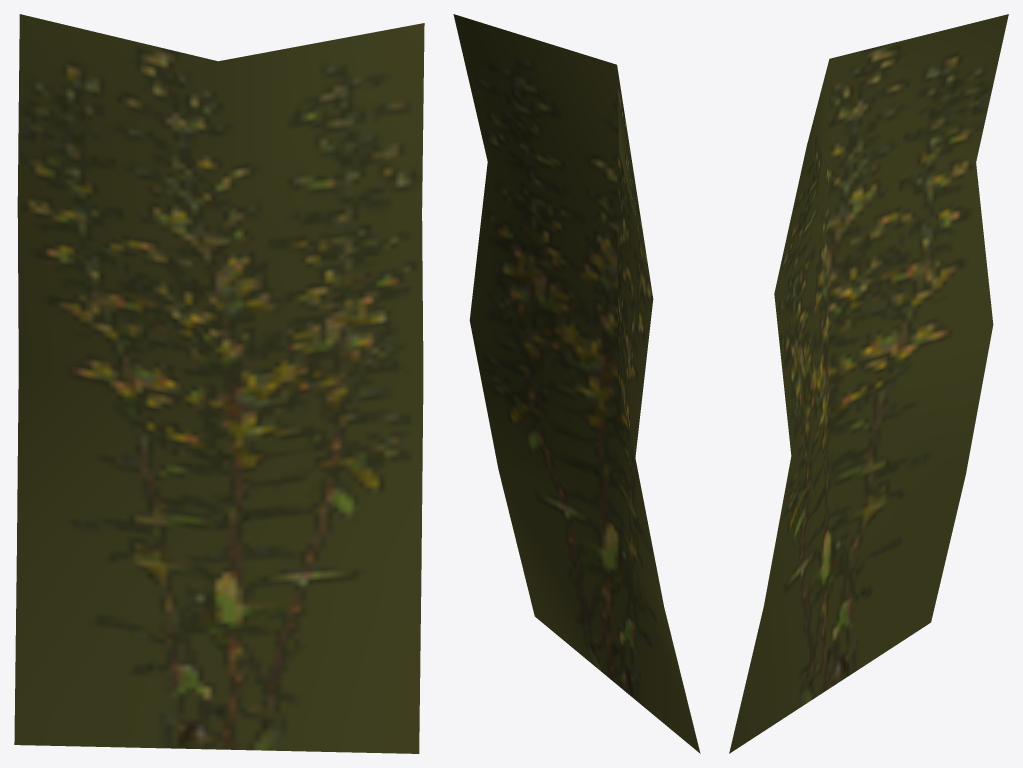
File: yasl_cao1.fbx
3 renders of one model, left to right at view 1: azimuth 30°, elevation 25°; view 2: azimuth 150°, elevation 25°; view 3: azimuth 270°, elevation 25°, orthographic. The views are drawn at different scales.
Parts seen in each view (by area): view 1: yasl_cao1; view 2: yasl_cao1; view 3: yasl_cao1.
Boxes of the visible parts, <box> form: yasl_cao1: <box>14,14,424,753</box>; yasl_cao1: <box>453,14,700,753</box>; yasl_cao1: <box>729,14,1008,753</box>.
Size of the model in its own units: 140 by 270 by 109.
